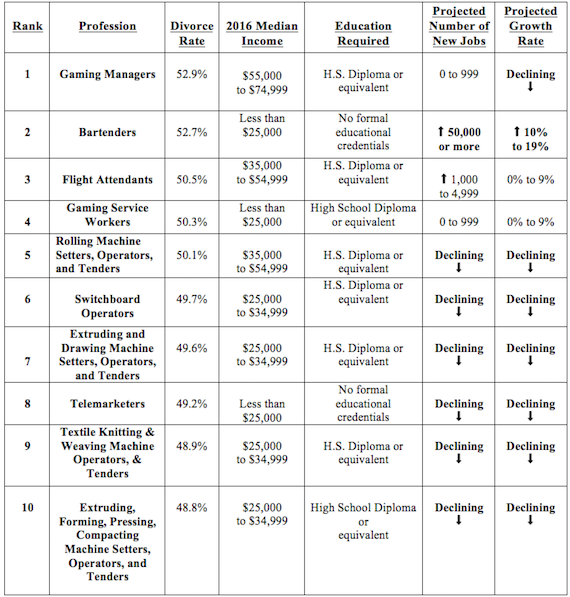fracking table: (4, 1, 569, 597)
